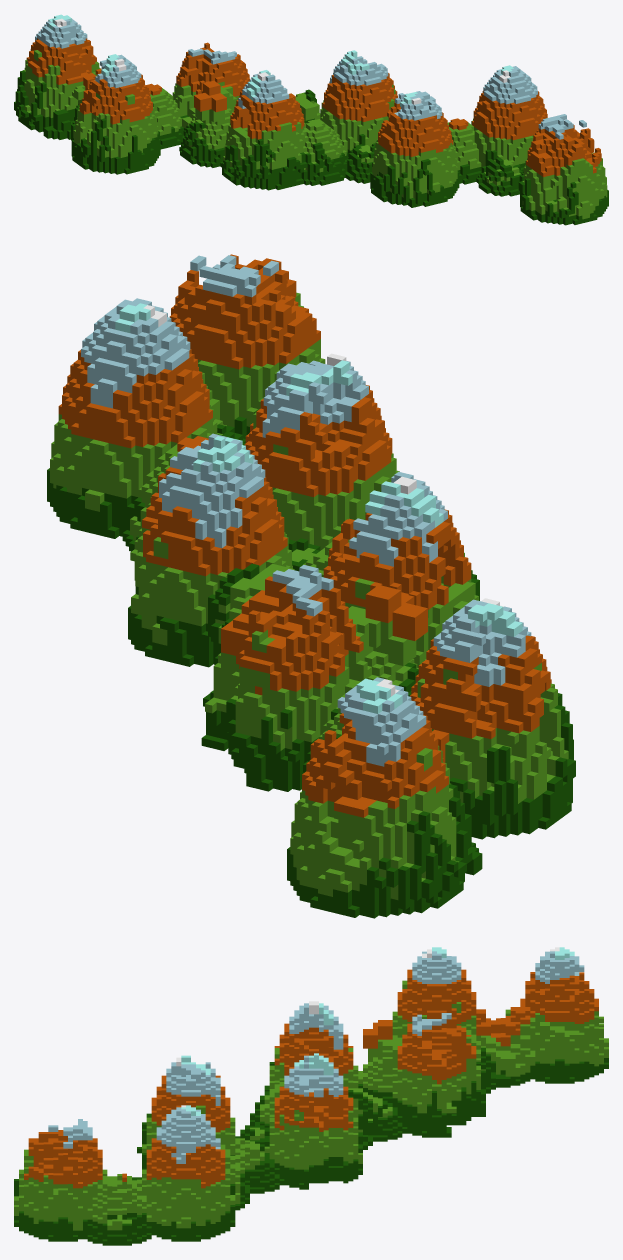
Rendered from mountains.obj.
3 views of the same model, one above another, from view 1: azimuth 30°, elevation 25°; view 2: azimuth 150°, elevation 25°; view 3: azimuth 270°, elevation 25° (orthographic). The views are drawn at different scales.
Bounding box in the file's own units: 9.9 × 2.5 × 12.1.
Materials: 1 (1 with a texture image).
